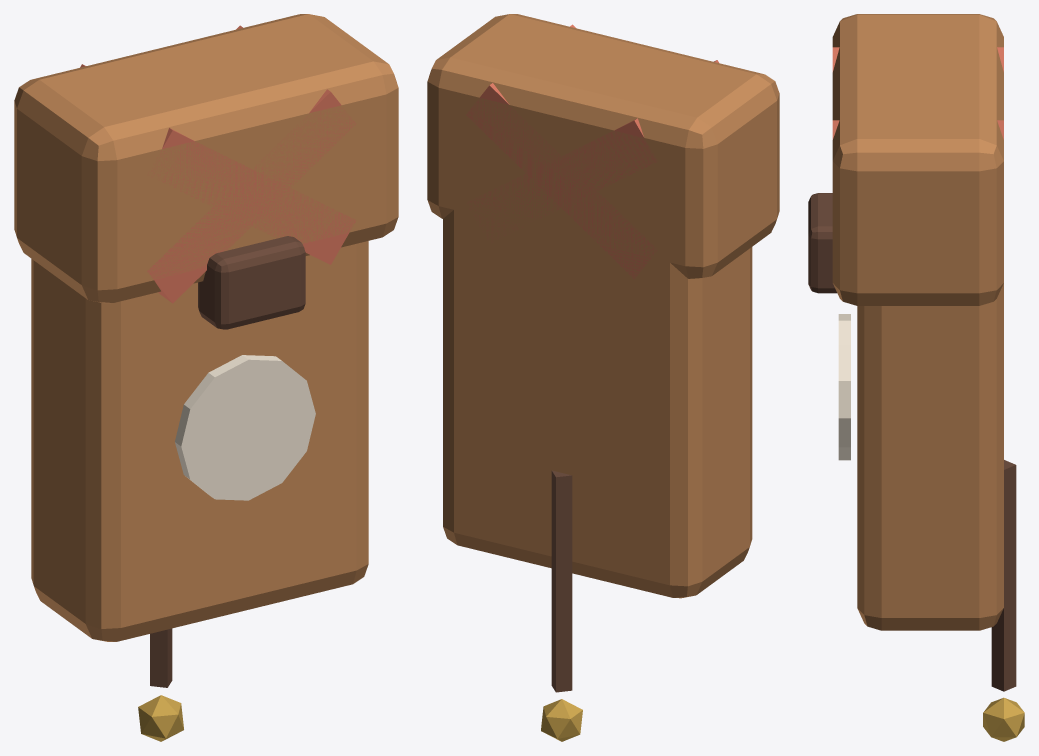
File: cuckoo_clock.glb
3 views of the same model, side by side, from view 1: azimuth 30°, elevation 25°; view 2: azimuth 150°, elevation 25°; view 3: azimuth 270°, elevation 25° (orthographic). The views are drawn at different scales.
Visible parts, largest first — view 1: cuckoo_clock; view 2: cuckoo_clock; view 3: cuckoo_clock.
Part boxes in pixels (x1,y1,x2,y2): cuckoo_clock: (14,14,398,741); cuckoo_clock: (427,14,779,741); cuckoo_clock: (808,14,1024,741).
Bounding box in the file's own units: 0.28 × 0.6 × 0.177.
